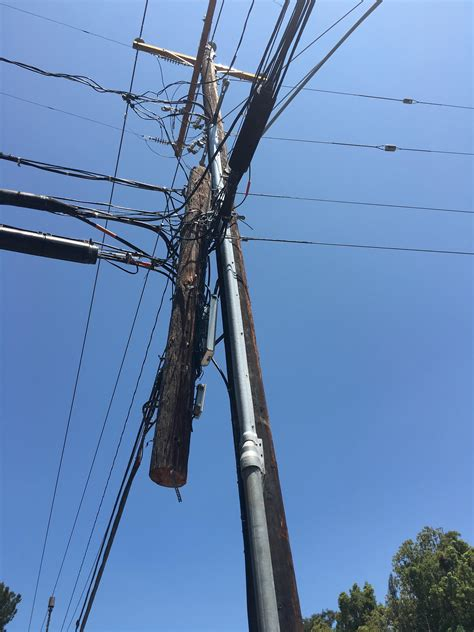pole: (76, 22, 433, 624)
